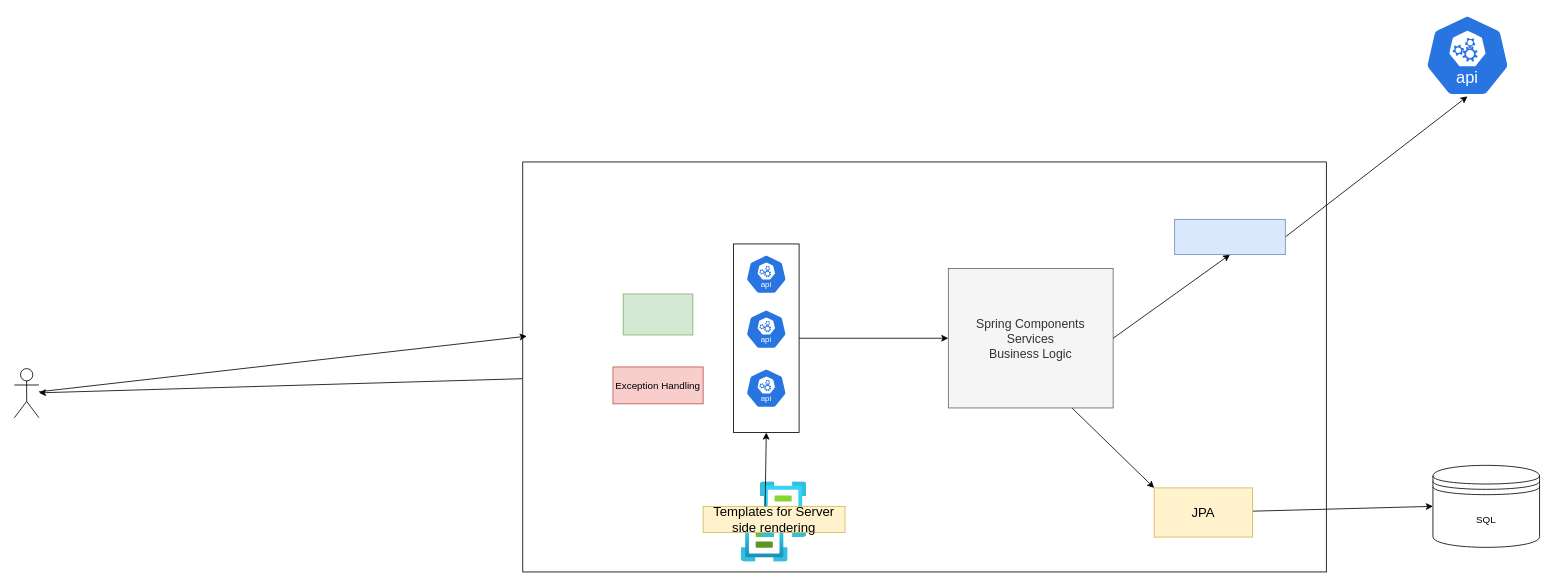
This 1554x586 diagram has some shape labels left out. Here are the shapes that lost their labels. From the top down, the centre of each, then its label:
At (1229,237): "RestTemplate".
At (657,314): "Input Validations".
At (26,393): "Actor".
